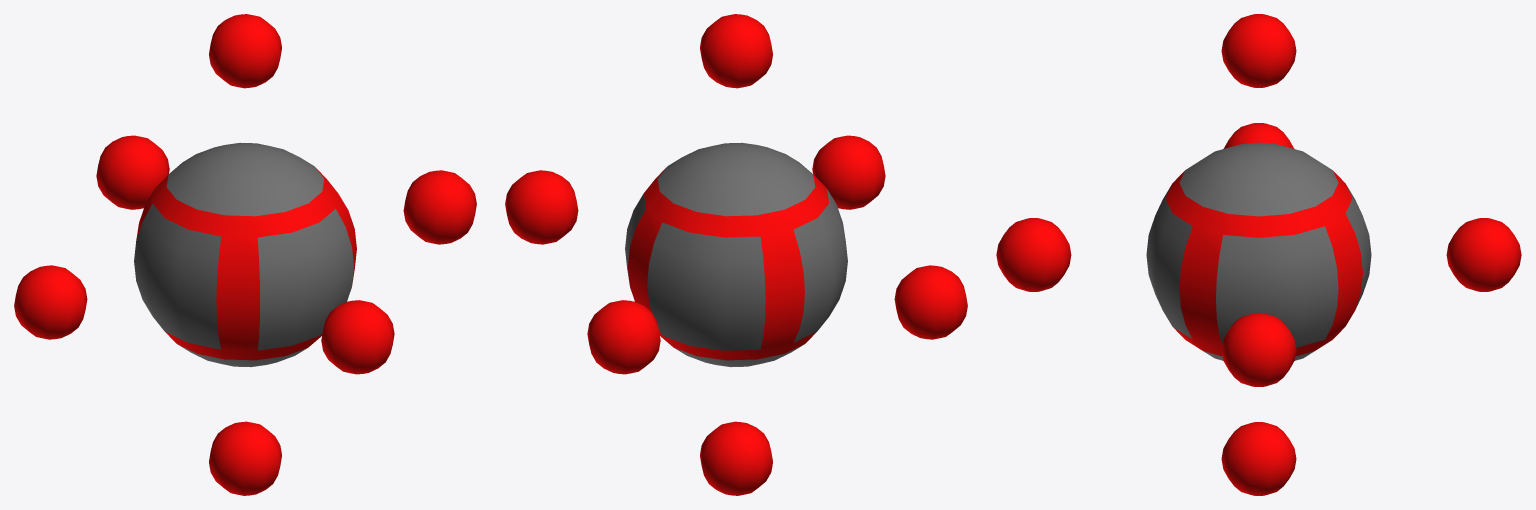
File: orbs.fbx
3 views of the same model, side by side, from view 1: azimuth 30°, elevation 25°; view 2: azimuth 150°, elevation 25°; view 3: azimuth 270°, elevation 25° (orthographic).
Visible parts, largest first — view 1: Ball, Ball.split, Ball.4, Ball.3, Ball.5, Ball.1, Ball.2, Ball.6; view 2: Ball, Ball.split, Ball.4, Ball.3, Ball.6, Ball.1, Ball.2, Ball.5; view 3: Ball, Ball.split, Ball.1, Ball.2, Ball.4, Ball.5, Ball.6, Ball.3.
Part boxes in pixels (x1,y1,x2,y2): Ball: [134, 142, 353, 367]; Ball.split: [136, 167, 356, 360]; Ball.4: [403, 170, 476, 244]; Ball.3: [14, 265, 87, 339]; Ball.5: [321, 300, 394, 374]; Ball.1: [209, 14, 281, 88]; Ball.2: [209, 421, 281, 495]; Ball.6: [96, 135, 169, 209]; Ball: [625, 142, 847, 367]; Ball.split: [628, 167, 828, 360]; Ball.4: [505, 170, 578, 244]; Ball.3: [894, 265, 967, 339]; Ball.6: [587, 300, 660, 374]; Ball.1: [700, 14, 772, 88]; Ball.2: [700, 421, 772, 495]; Ball.5: [812, 135, 885, 209]; Ball: [1146, 142, 1371, 360]; Ball.split: [1165, 171, 1362, 356]; Ball.1: [1221, 14, 1296, 87]; Ball.2: [1221, 422, 1296, 495]; Ball.4: [1221, 313, 1296, 386]; Ball.5: [996, 218, 1071, 291]; Ball.6: [1446, 218, 1521, 291]; Ball.3: [1223, 123, 1294, 148].
Size of the model in its own units: 695 by 700 by 700.
